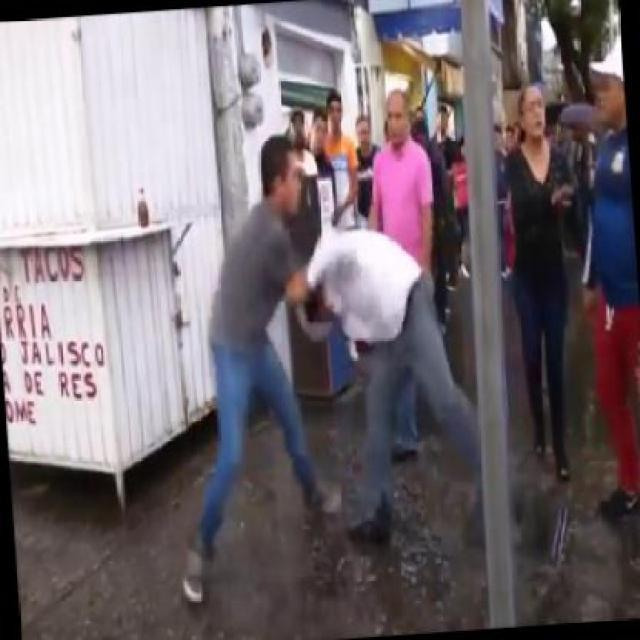fight: (192, 118, 486, 570)
non-fight: (496, 76, 596, 478), (570, 36, 638, 578)
